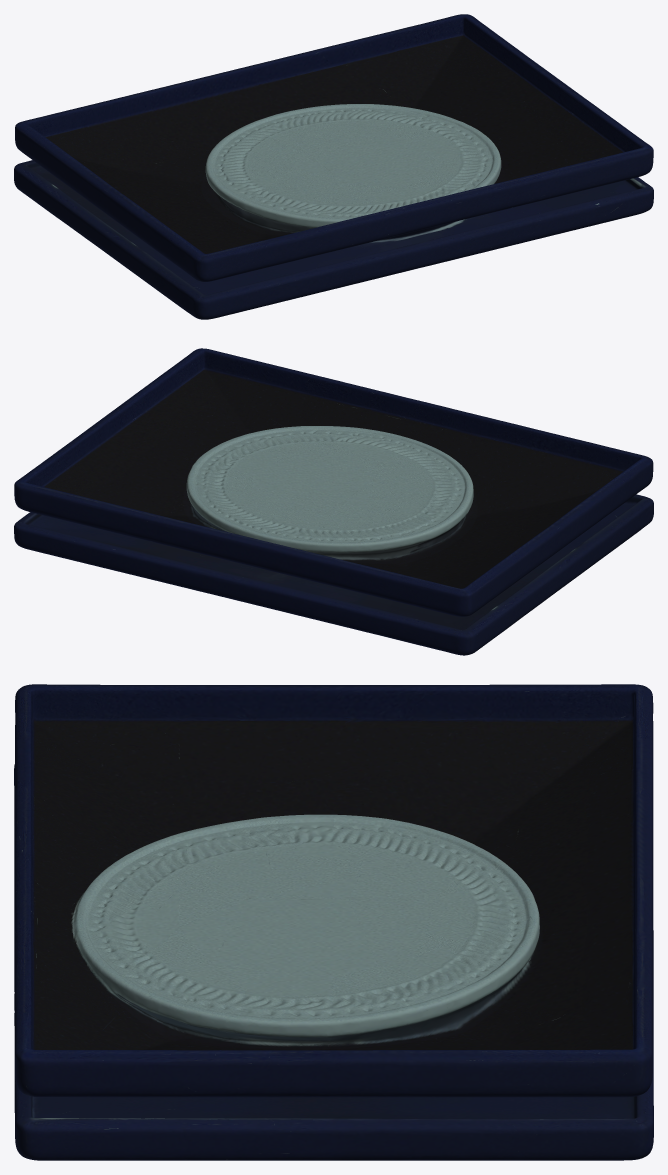
3 views of the same model, one above another, from view 1: azimuth 30°, elevation 25°; view 2: azimuth 150°, elevation 25°; view 3: azimuth 270°, elevation 25° (orthographic). The views are drawn at different scales.
Bounding box in the file's own units: 1.27 × 0.1739 × 0.9045.
Materials: 1 (1 with a texture image).
